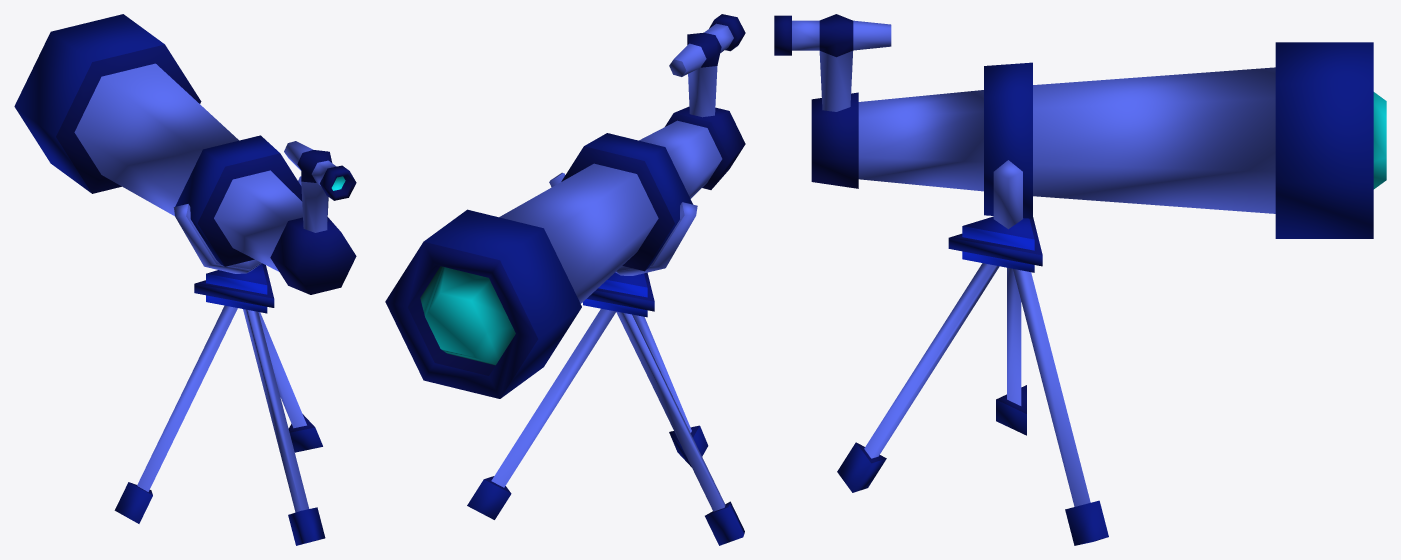
Rendered from Telescopio.fbx.
3 views of the same model, side by side, from view 1: azimuth 30°, elevation 25°; view 2: azimuth 150°, elevation 25°; view 3: azimuth 270°, elevation 25° (orthographic). The views are drawn at different scales.
Parts seen in each view (by area): view 1: Telescopio; view 2: Telescopio; view 3: Telescopio.
Boxes of the visible parts, x1,y1,x2,y2 form: Telescopio: (14, 14, 356, 545); Telescopio: (385, 14, 745, 545); Telescopio: (774, 14, 1386, 545).
Bounding box in the file's own units: 64.08 × 107 × 126.
